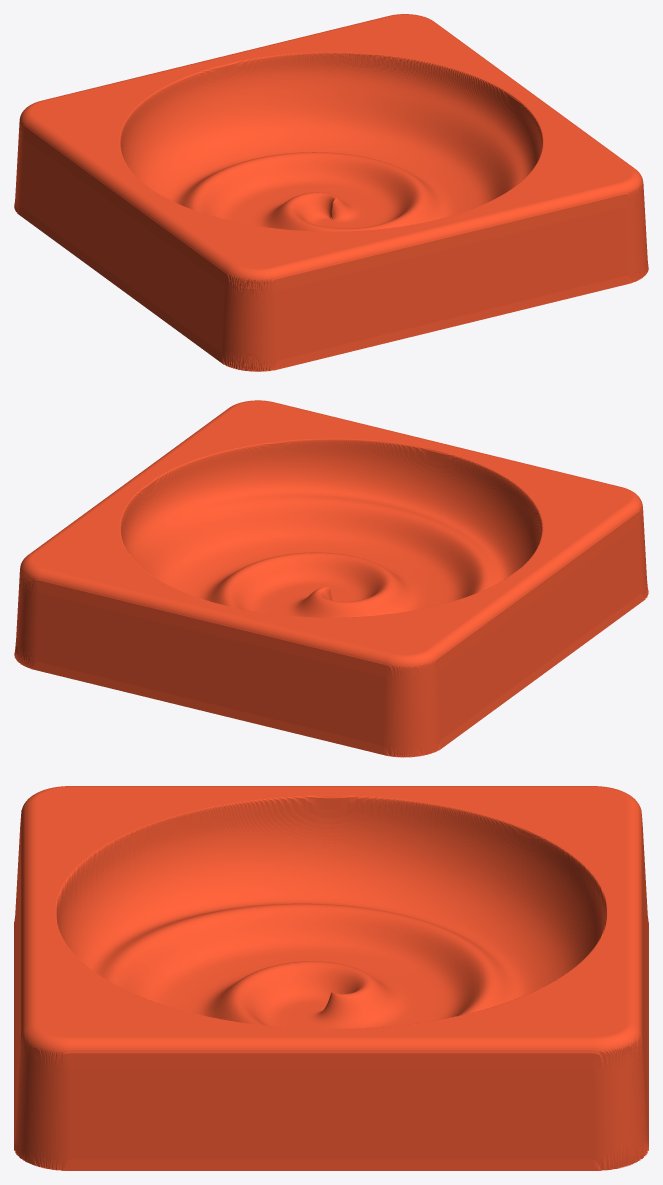
The model's file is mold.glb.
The picture shows the model from 3 angles, top to bottom: view 1: azimuth 30°, elevation 25°; view 2: azimuth 150°, elevation 25°; view 3: azimuth 270°, elevation 25°; orthographic projection. The views are drawn at different scales.
Parts seen in each view (by area): view 1: geometry_0; view 2: geometry_0; view 3: geometry_0.
Part boxes in pixels (left/top/right/bottom): geometry_0: left=14, top=14, right=648, bottom=371; geometry_0: left=14, top=400, right=648, bottom=757; geometry_0: left=14, top=786, right=648, bottom=1170.
Bounding box in the file's own units: 0.103 × 0.0223 × 0.103.
